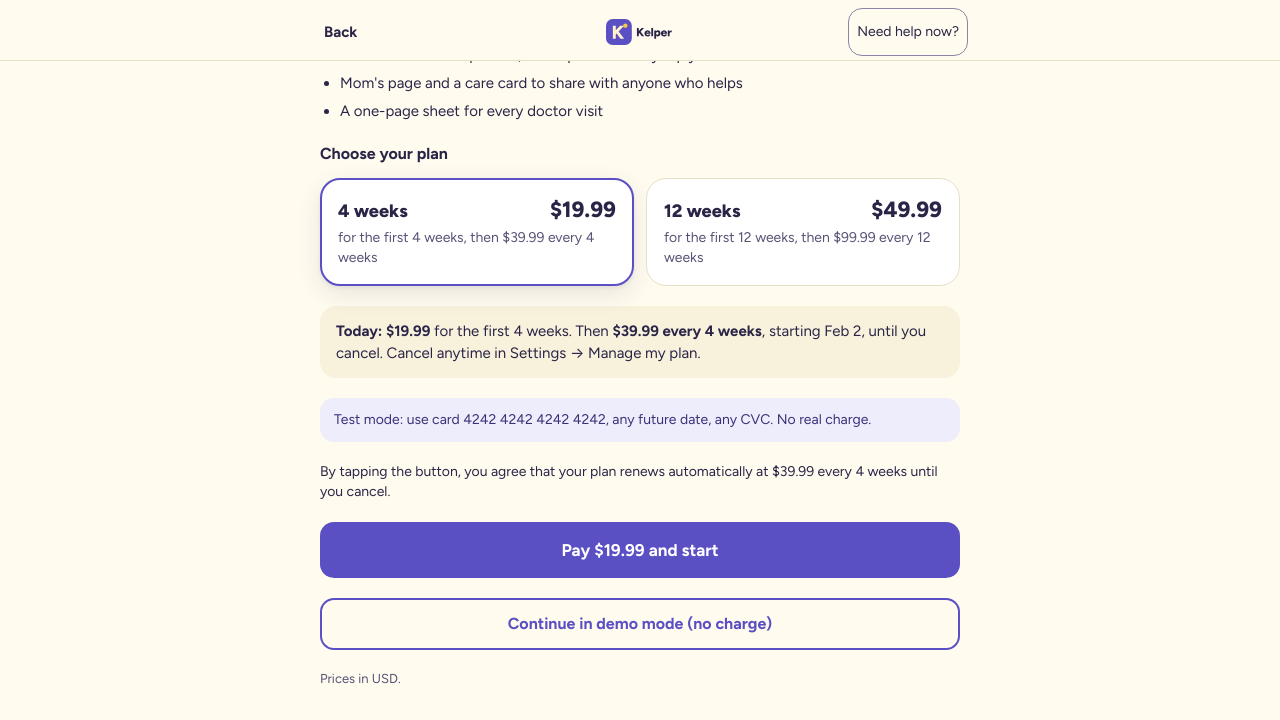
Test case: PaywallPage › shows the demo hint and focuses the demo button on 502 demo_mode
(page scrolled)
Click the button "Pay $19.99 and start" at (640,550), box [320,522,960,578]
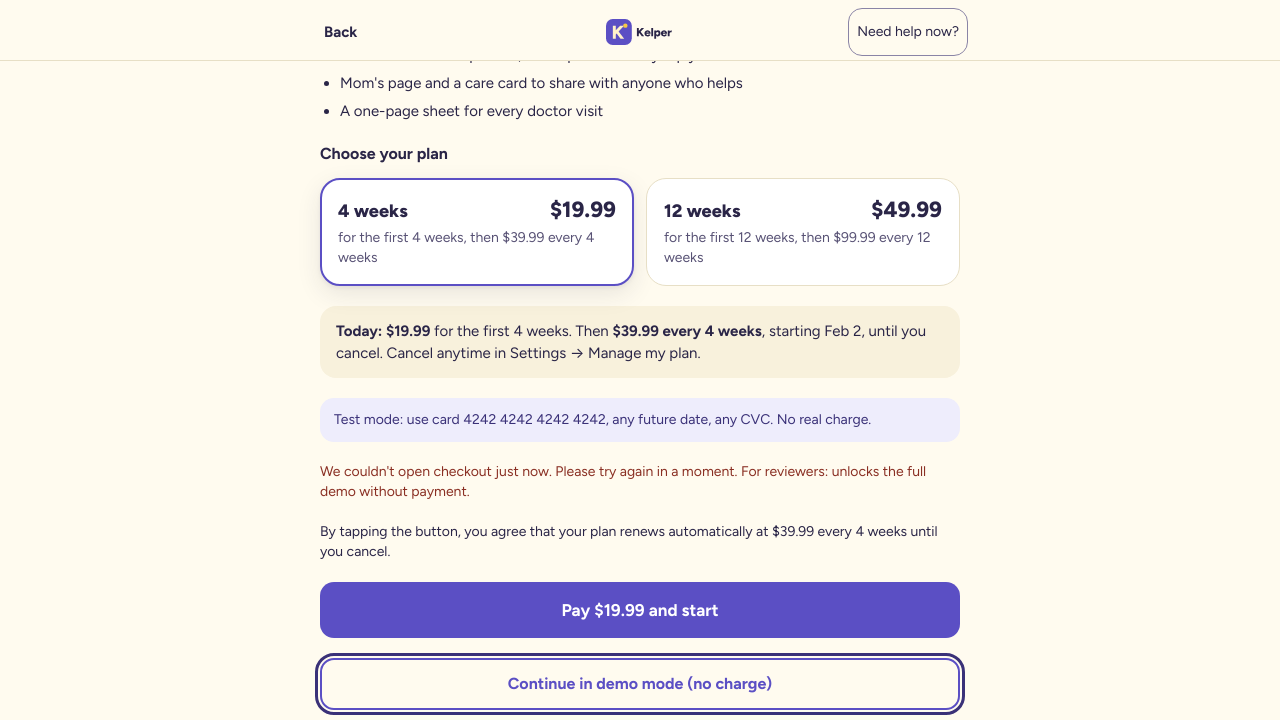
Check: the text "For reviewers" is shown, box [320,463,926,500]
